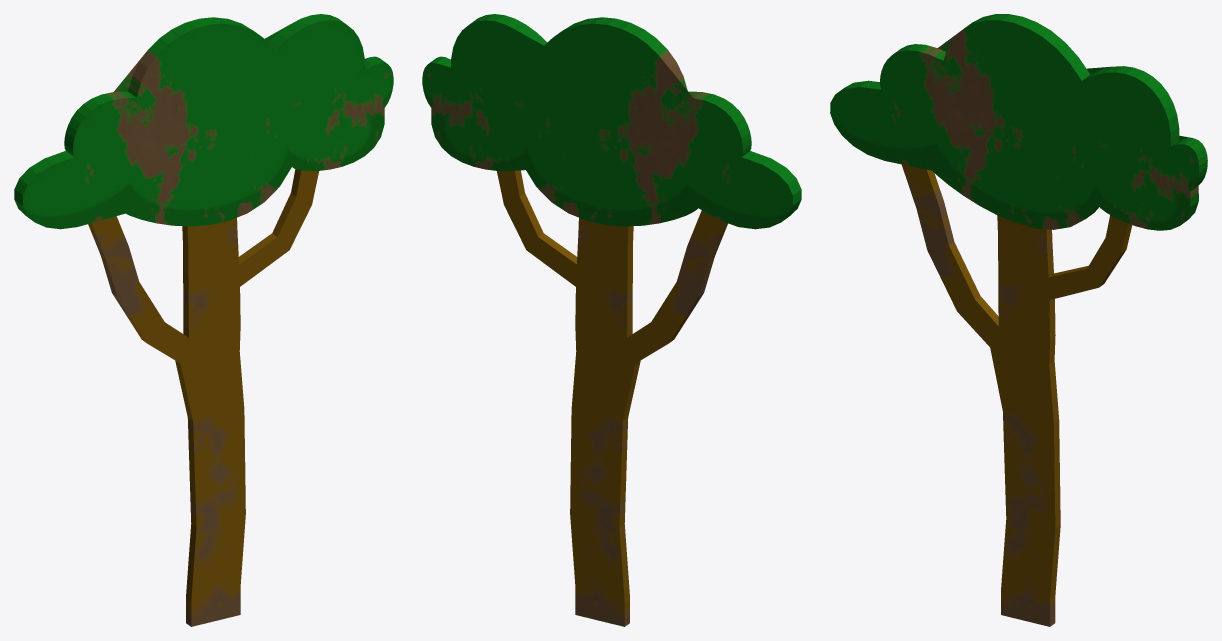
The model's file is Arbol2Junto.fbx.
3 views of the same model, side by side, from view 1: azimuth 30°, elevation 25°; view 2: azimuth 150°, elevation 25°; view 3: azimuth 330°, elevation 25° (orthographic).
Parts seen in each view (by area): view 1: arbol 2; view 2: arbol 2; view 3: arbol 2.
Boxes of the visible parts, left/top/right/bottom form: arbol 2: left=14, top=14, right=393, bottom=626; arbol 2: left=422, top=14, right=801, bottom=626; arbol 2: left=830, top=14, right=1207, bottom=626.
Size of the model in its own units: 440 by 680 by 17.73.
